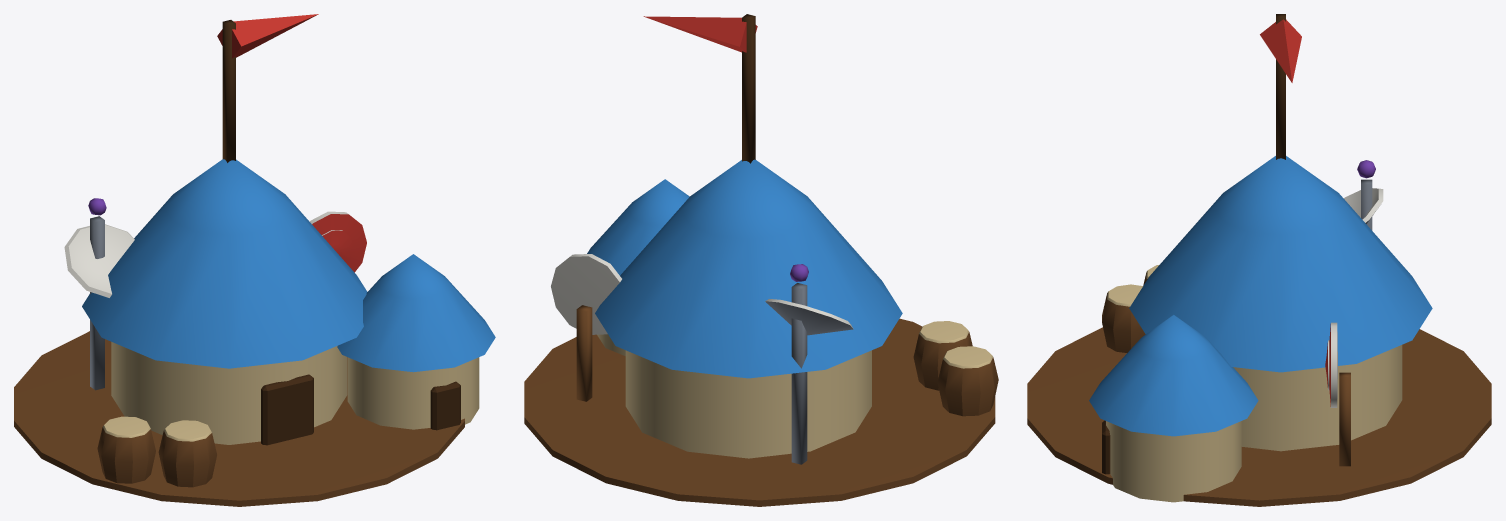
The picture shows the model from 3 angles, left to right: view 1: azimuth 30°, elevation 25°; view 2: azimuth 150°, elevation 25°; view 3: azimuth 270°, elevation 25°; orthographic projection. The views are drawn at different scales.
Visible parts, largest first — view 1: vila_0_base, vila_1_torreta; view 2: vila_0_base, vila_1_torreta; view 3: vila_0_base, vila_1_torreta.
Boxes of the visible parts, x1,y1,x2,y2 form: vila_0_base: (14,159,495,506); vila_1_torreta: (217,14,318,162); vila_0_base: (524,159,998,506); vila_1_torreta: (643,14,757,163); vila_0_base: (1027,156,1491,506); vila_1_torreta: (1260,14,1301,159).
Bounding box in the file's own units: 1.34 × 1.21 × 1.3.
